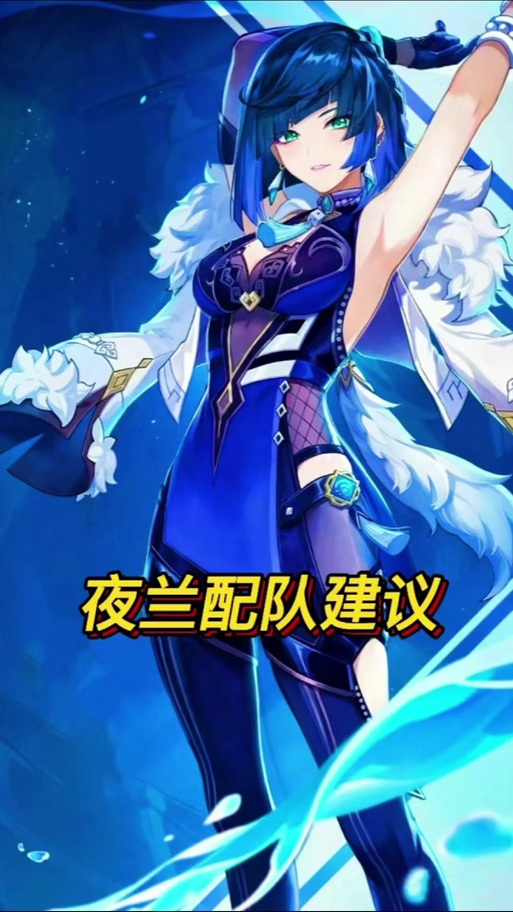夜兰: (133, 8, 513, 912)
